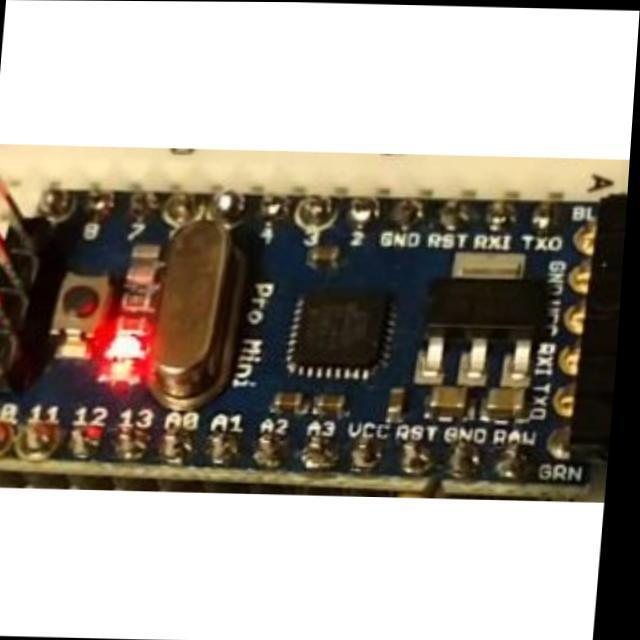Arduino-ProMini: (1, 190, 626, 502)
